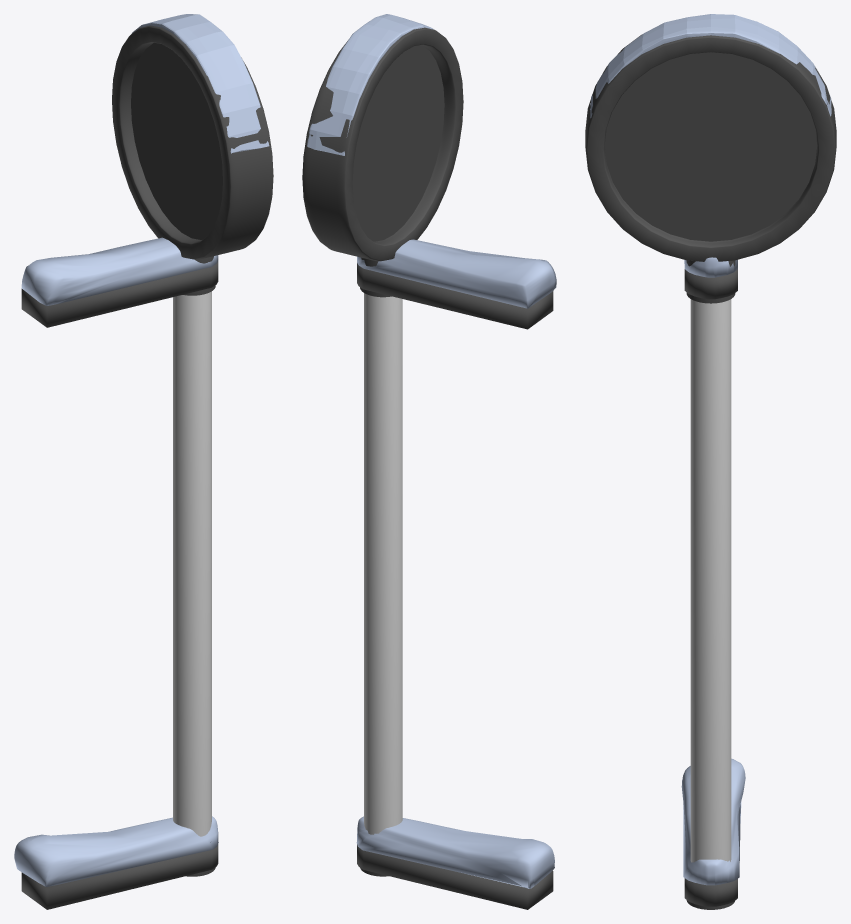
Rendered from thermometer.glb.
The picture shows the model from 3 angles, left to right: view 1: azimuth 30°, elevation 25°; view 2: azimuth 150°, elevation 25°; view 3: azimuth 270°, elevation 25°; orthographic projection. The views are drawn at different scales.
Parts seen in each view (by area): view 1: glass, screen, faceBack, Thermometer, snow.002, snow.001, screen.001; view 2: glass, screen, faceBack, Thermometer, snow.002, snow.001, screen.001; view 3: face, glass, screen, screen.001, snow.002, Thermometer, snow.001.
Part boxes in pixels (x1,y1,x2,y2): glass: [173, 291, 211, 836]; screen: [112, 25, 273, 259]; faceBack: [131, 43, 222, 239]; Thermometer: [21, 261, 218, 909]; snow.002: [14, 816, 218, 886]; snow.001: [21, 237, 218, 305]; screen.001: [131, 14, 269, 153]; glass: [364, 293, 402, 834]; screen: [302, 27, 463, 261]; faceBack: [352, 45, 444, 241]; Thermometer: [357, 263, 553, 909]; snow.002: [356, 816, 554, 888]; snow.001: [357, 239, 556, 308]; screen.001: [307, 14, 433, 155]; face: [604, 52, 817, 241]; glass: [690, 299, 731, 862]; screen: [585, 34, 836, 261]; screen.001: [590, 14, 831, 117]; snow.002: [681, 758, 745, 885]; Thermometer: [684, 269, 737, 906]; snow.001: [684, 257, 737, 277].
Size of the model in its own units: 0.057 by 0.2412 by 0.0626.
